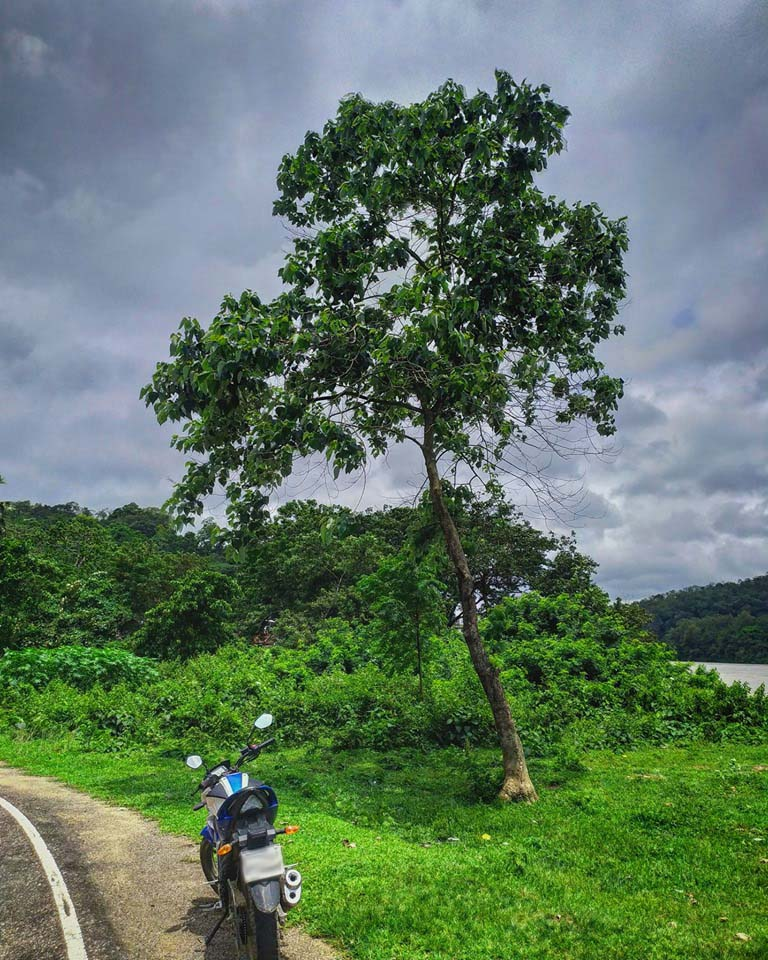bike: (167, 711, 321, 957)
